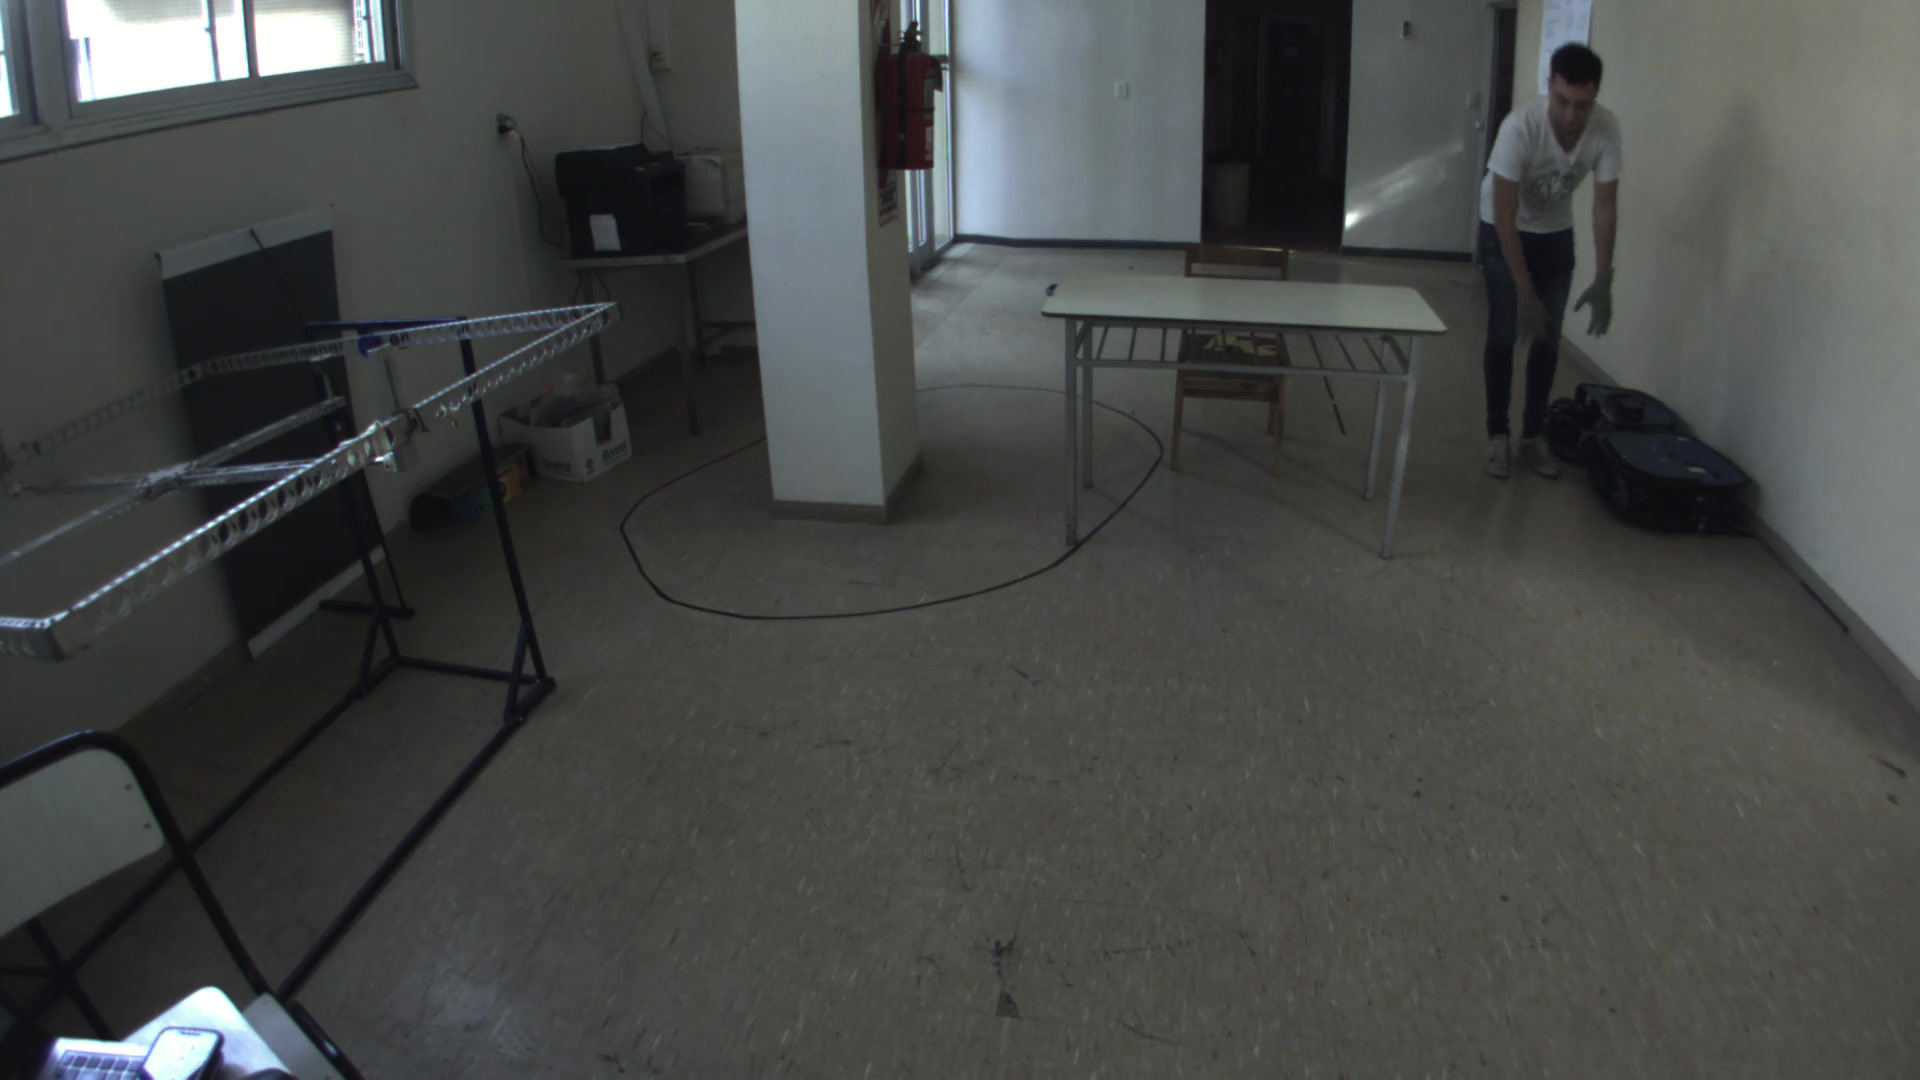hand: (1575, 256, 1623, 344), (1511, 280, 1563, 355)
